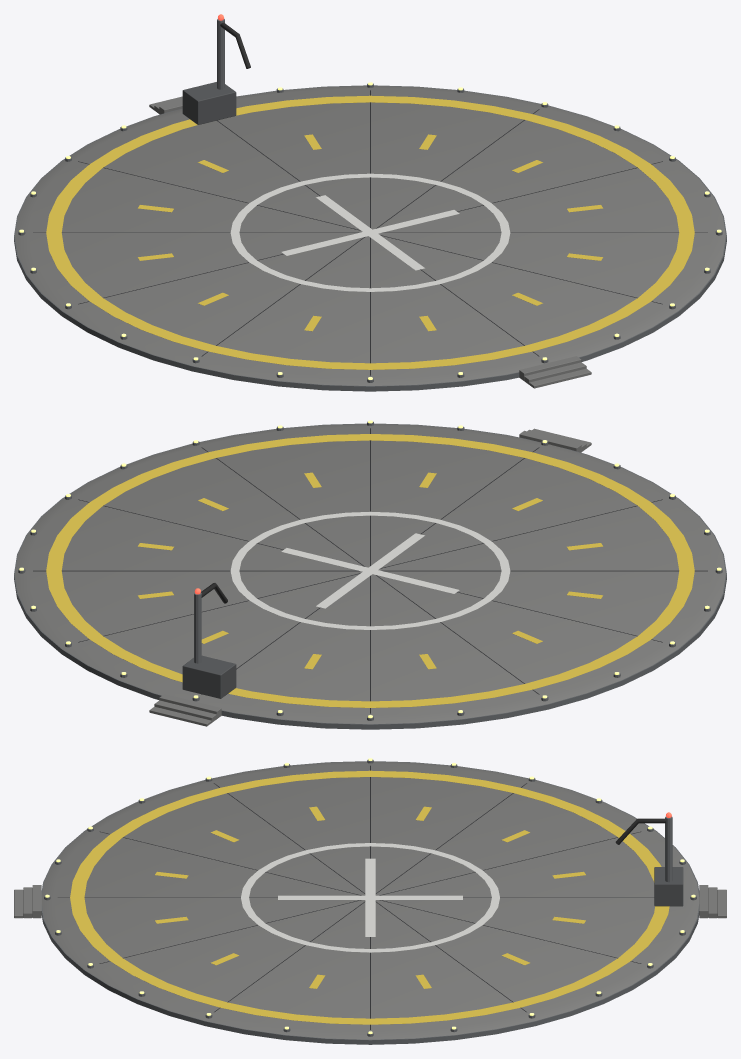
The model's file is landing_pad.glb.
3 renders of one model, top to bottom at view 1: azimuth 30°, elevation 25°; view 2: azimuth 150°, elevation 25°; view 3: azimuth 270°, elevation 25°, orthographic. The views are drawn at different scales.
Parts seen in each view (by area): view 1: landing_pad; view 2: landing_pad; view 3: landing_pad.
Part boxes in pixels (left/top/right/bottom): landing_pad: left=14, top=14, right=726, bottom=391; landing_pad: left=14, top=420, right=726, bottom=729; landing_pad: left=14, top=758, right=726, bottom=1044.
Size of the model in its own units: 32.1 by 5.25 by 34.65.
